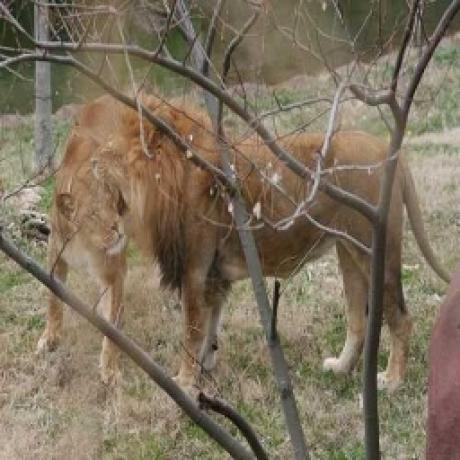Lion: (93, 99, 456, 390), (37, 136, 127, 389)
